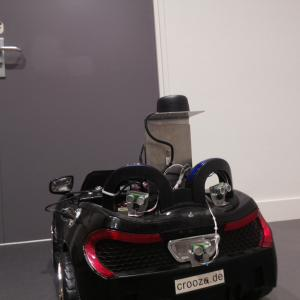big: (44, 164, 283, 300)
